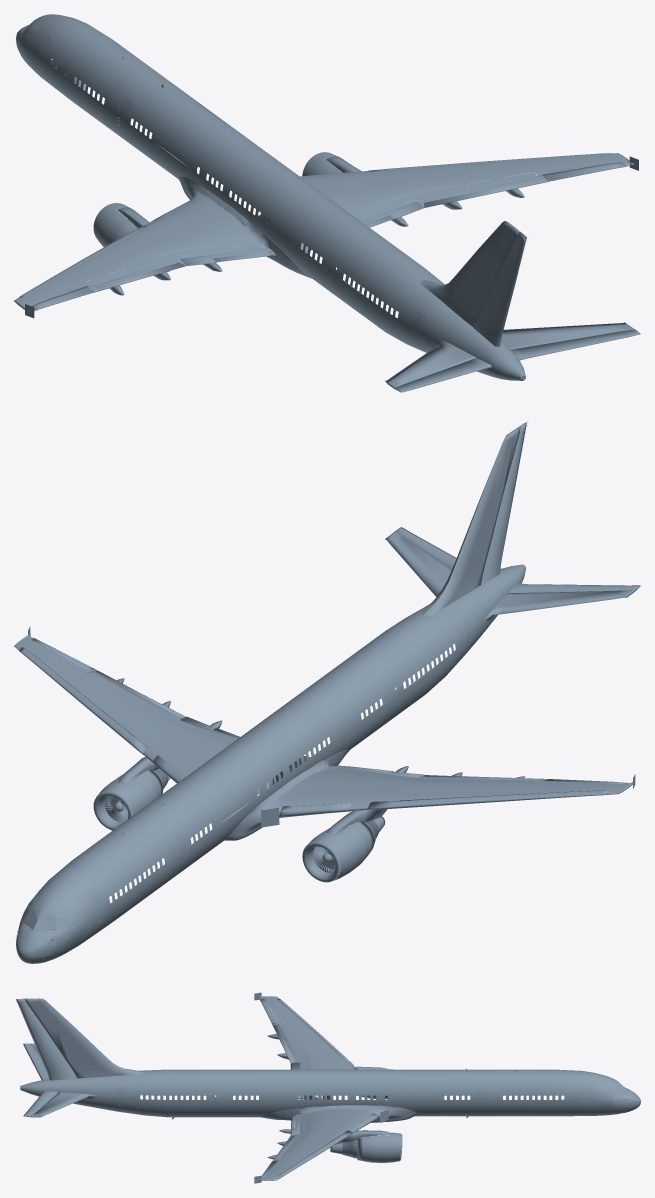
3 renders of one model, top to bottom at view 1: azimuth 30°, elevation 25°; view 2: azimuth 150°, elevation 25°; view 3: azimuth 270°, elevation 25°, orthographic. The views are drawn at different scales.
Bounding box in the file's own units: 37.2 × 12.34 × 53.45.
